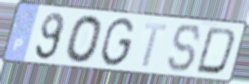9: (33, 10, 67, 62)
D: (193, 26, 238, 77)
G: (98, 16, 136, 68)
O: (64, 13, 104, 65)
S: (166, 23, 203, 74)
T: (140, 21, 169, 69)
